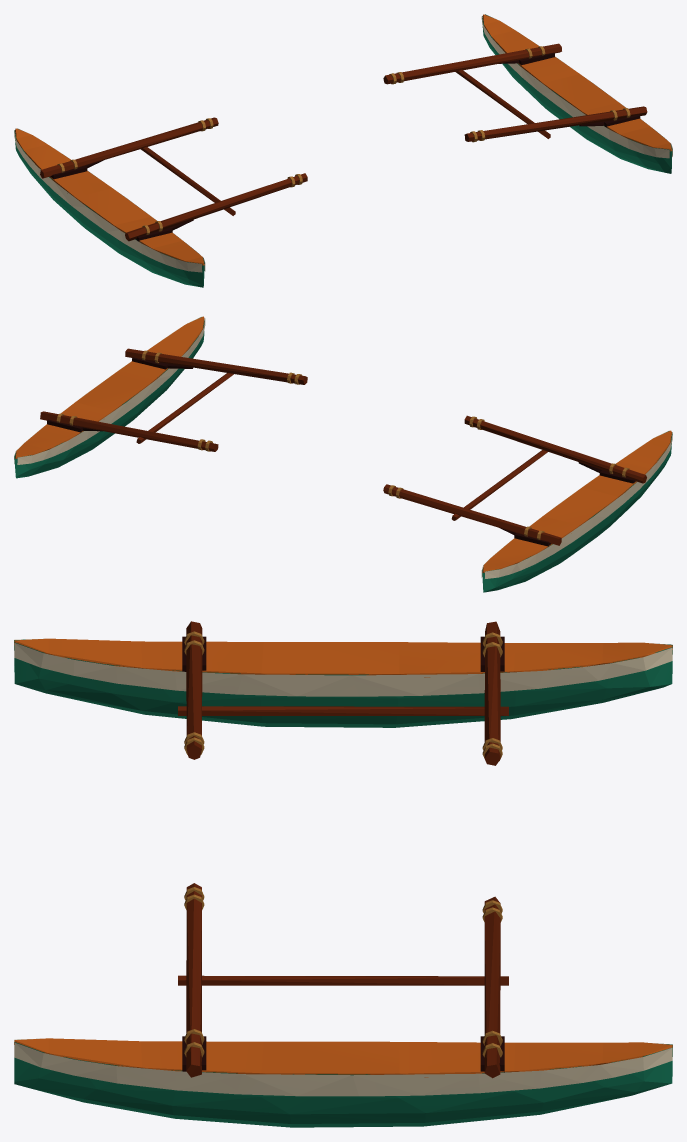
File: tb_sloop_outriggers.three-web-toon.lod50.glb
3 renders of one model, top to bottom at view 1: azimuth 30°, elevation 25°; view 2: azimuth 150°, elevation 25°; view 3: azimuth 270°, elevation 25°, orthographic. The views are drawn at different scales.
Parts seen in each view (by area): view 1: outrigger_port_lod, outrigger_starboard_lod; view 2: outrigger_port_lod, outrigger_starboard_lod; view 3: outrigger_starboard_lod, outrigger_port_lod.
Part boxes in pixels (x1=…): outrigger_port_lod: x1=14, y1=117, x2=307, y2=287; outrigger_starboard_lod: x1=383, y1=14, x2=672, y2=173; outrigger_port_lod: x1=383, y1=415, x2=672, y2=592; outrigger_starboard_lod: x1=14, y1=316, x2=307, y2=478; outrigger_starboard_lod: x1=14, y1=883, x2=672, y2=1127; outrigger_port_lod: x1=14, y1=621, x2=672, y2=765.
Bounding box in the file's own units: 9.7 × 1.14 × 6.1.
